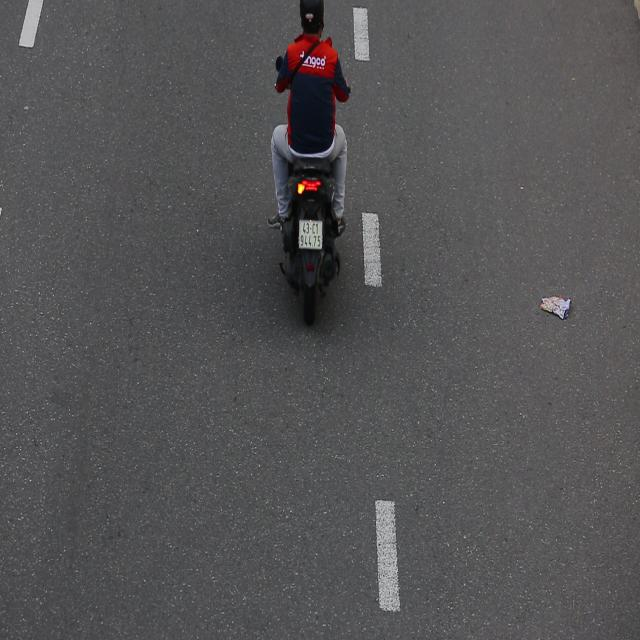motorbike: (250, 0, 359, 349)
